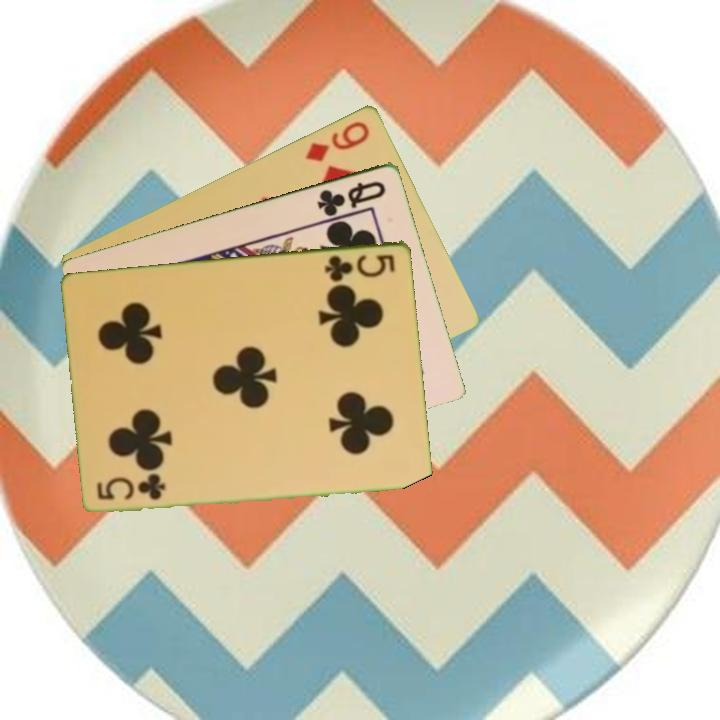5c: (321, 250, 398, 285), (94, 474, 169, 503)
9d: (302, 117, 373, 164)
Qc: (313, 176, 389, 219)
